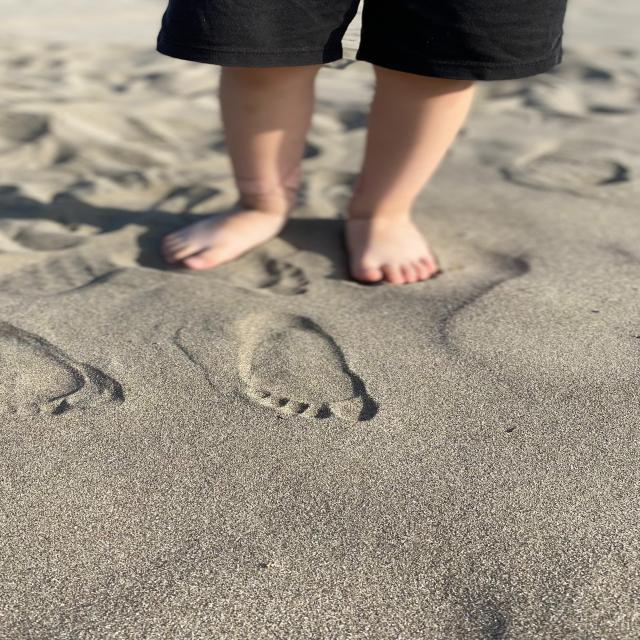human_footprint: (209, 308, 397, 448)
